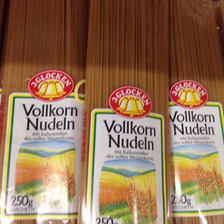pasta: (82, 2, 170, 224), (4, 1, 89, 224), (168, 1, 223, 224)
